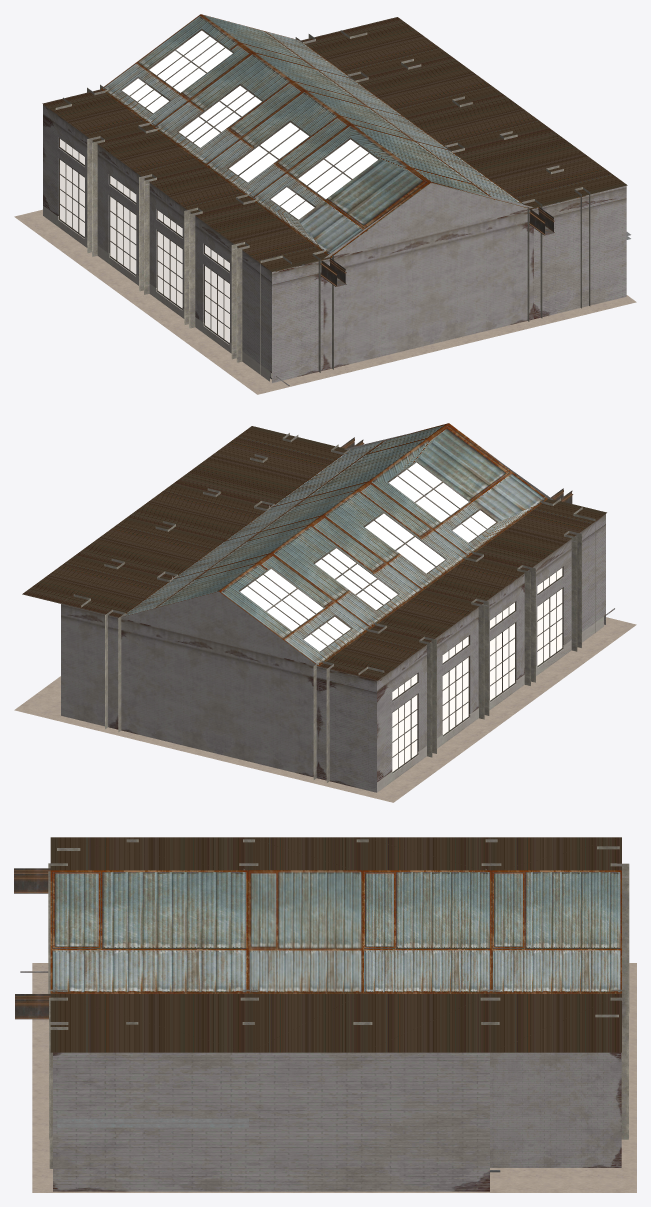
The picture shows the model from 3 angles, top to bottom: view 1: azimuth 30°, elevation 25°; view 2: azimuth 150°, elevation 25°; view 3: azimuth 270°, elevation 25°; orthographic projection. The views are drawn at different scales.
Parts seen in each view (by area): view 1: roof, wall, Frame, windows, Garage_ground; view 2: roof, wall, windows, Frame, Garage_ground; view 3: roof, wall, Garage_ground, Frame, Stairs.
Boxes of the visible parts, x1,y1,x2,y2 form: roof: (42, 14, 627, 271); wall: (43, 26, 626, 382); Frame: (43, 28, 590, 381); windows: (60, 30, 377, 342); Garage_ground: (14, 209, 636, 394); roof: (22, 423, 606, 680); wall: (61, 431, 605, 792); windows: (240, 462, 562, 771); Frame: (73, 433, 603, 792); Garage_ground: (14, 617, 636, 802); roof: (50, 837, 621, 1052); wall: (53, 1052, 621, 1191); Garage_ground: (32, 963, 636, 1192); Frame: (14, 839, 629, 1172); Stairs: (57, 1118, 248, 1127).
Size of the model in its own units: 3643 by 1481 by 4122.
11 materials, 11 textured.
